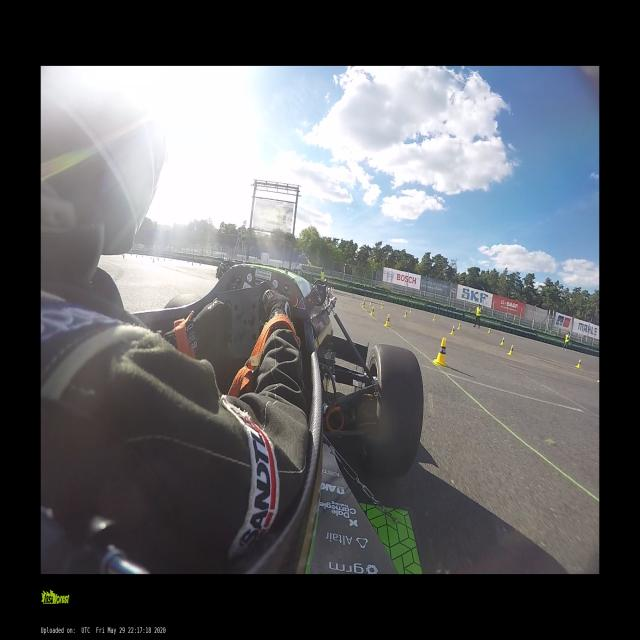yellow_cone: (433, 338, 448, 366), (384, 314, 390, 326), (574, 360, 582, 368), (508, 345, 514, 355), (450, 326, 456, 335), (370, 306, 375, 316), (403, 310, 408, 317), (500, 337, 504, 345), (362, 300, 366, 308), (432, 315, 436, 320), (487, 328, 491, 333), (369, 299, 372, 305), (457, 323, 460, 328), (381, 303, 383, 309), (409, 308, 412, 312), (380, 300, 383, 304), (352, 294, 354, 298)
